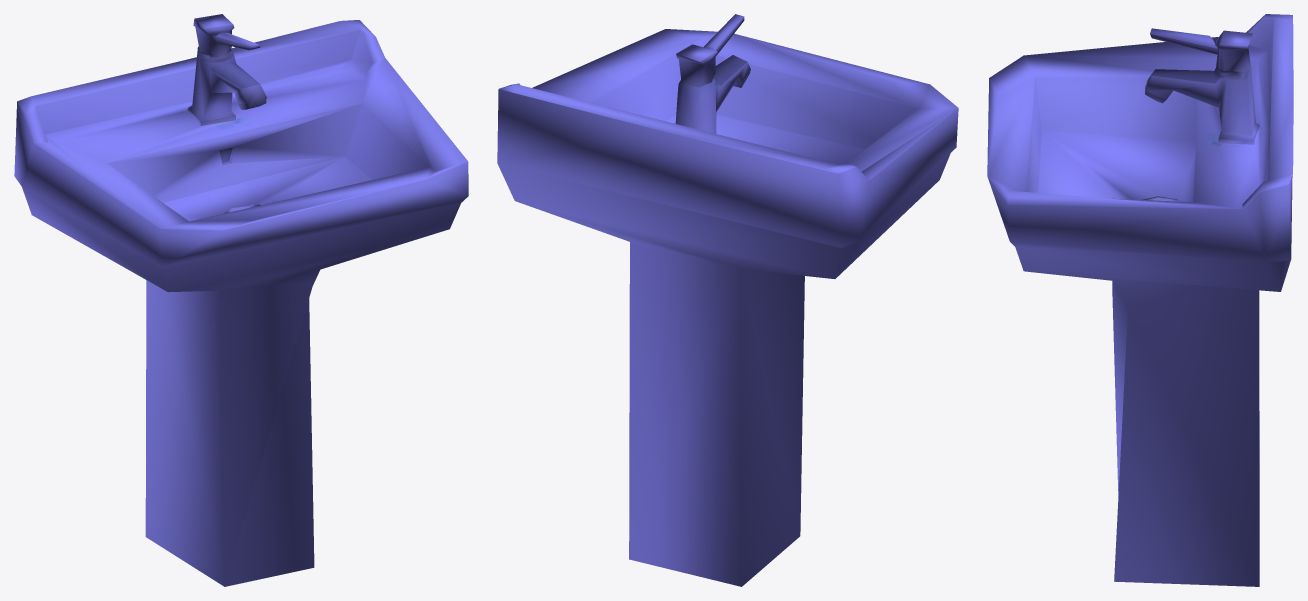
Rendered from model.progressive.glb.
The picture shows the model from 3 angles, left to right: view 1: azimuth 30°, elevation 25°; view 2: azimuth 150°, elevation 25°; view 3: azimuth 270°, elevation 25°; orthographic projection. The views are drawn at different scales.
Parts seen in each view (by area): view 1: mesh_input; view 2: mesh_input; view 3: mesh_input.
Boxes of the visible parts, x1,y1,x2,y2 form: mesh_input: [14, 14, 468, 586]; mesh_input: [497, 14, 958, 586]; mesh_input: [987, 14, 1293, 586].
Bounding box in the file's own units: 1.34 × 1.88 × 0.9864.
1 material, 1 textured.
